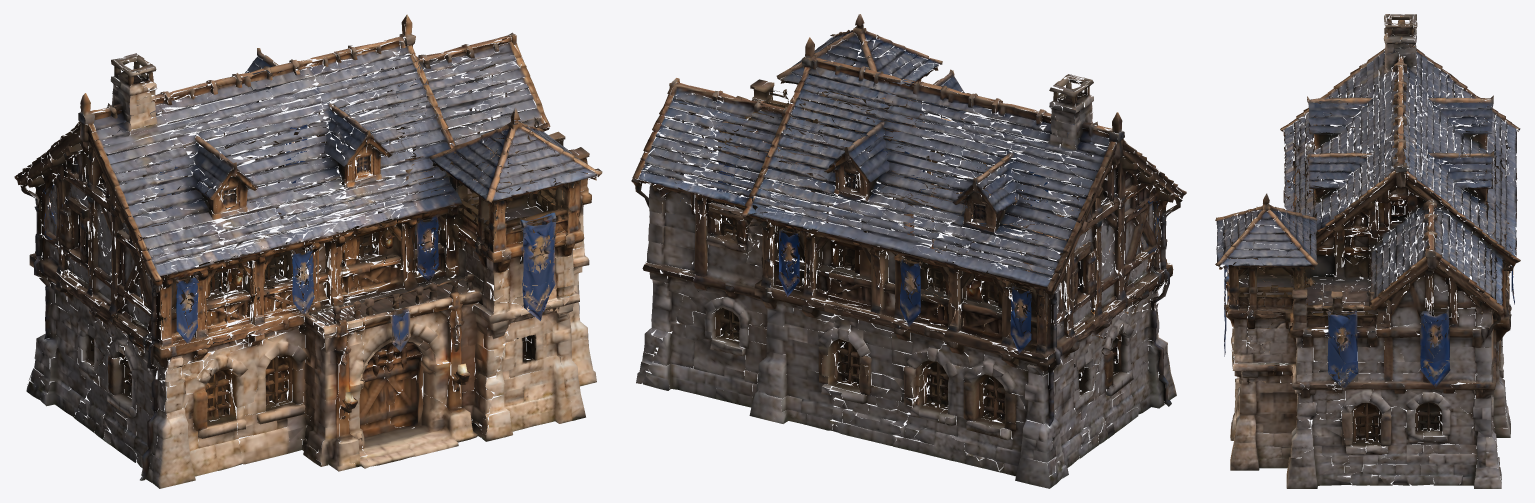
The model's file is Valoria_Cuartel_AP2_v1.glb.
3 views of the same model, side by side, from view 1: azimuth 30°, elevation 25°; view 2: azimuth 150°, elevation 25°; view 3: azimuth 270°, elevation 25° (orthographic). The views are drawn at different scales.
Parts seen in each view (by area): view 1: tripo_node_a0ed612d-5a6f-42ae-9d66-9558557c70ab; view 2: tripo_node_a0ed612d-5a6f-42ae-9d66-9558557c70ab; view 3: tripo_node_a0ed612d-5a6f-42ae-9d66-9558557c70ab.
Boxes of the visible parts, bbox=[...] form: tripo_node_a0ed612d-5a6f-42ae-9d66-9558557c70ab: bbox=[14, 14, 602, 488]; tripo_node_a0ed612d-5a6f-42ae-9d66-9558557c70ab: bbox=[631, 14, 1186, 488]; tripo_node_a0ed612d-5a6f-42ae-9d66-9558557c70ab: bbox=[1215, 14, 1520, 488].
Bounding box in the file's own units: 0.979 × 0.7606 × 0.682.
Materials: 1 (1 with a texture image).
